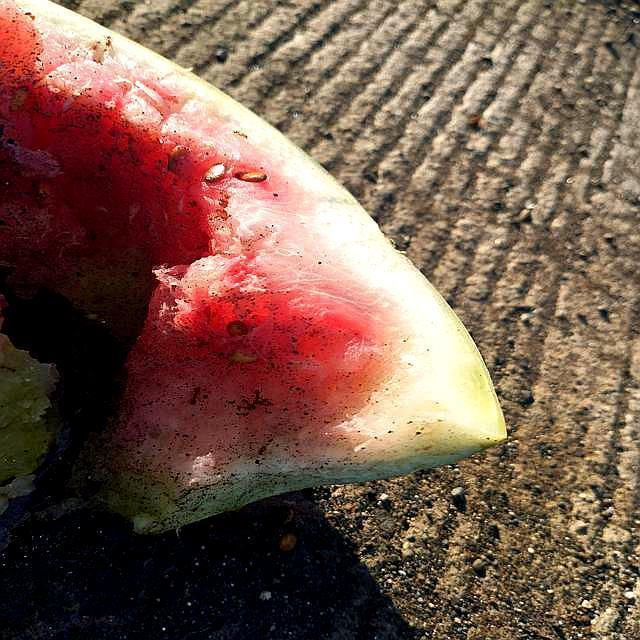Biodegradable: (1, 1, 513, 515)
